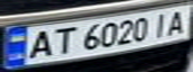0: (130, 14, 154, 43), (100, 19, 121, 49)
2: (115, 16, 139, 46)
6: (78, 20, 103, 52)
A: (21, 27, 57, 61), (163, 7, 193, 36)
I: (148, 10, 175, 38)
T: (45, 25, 78, 56)
